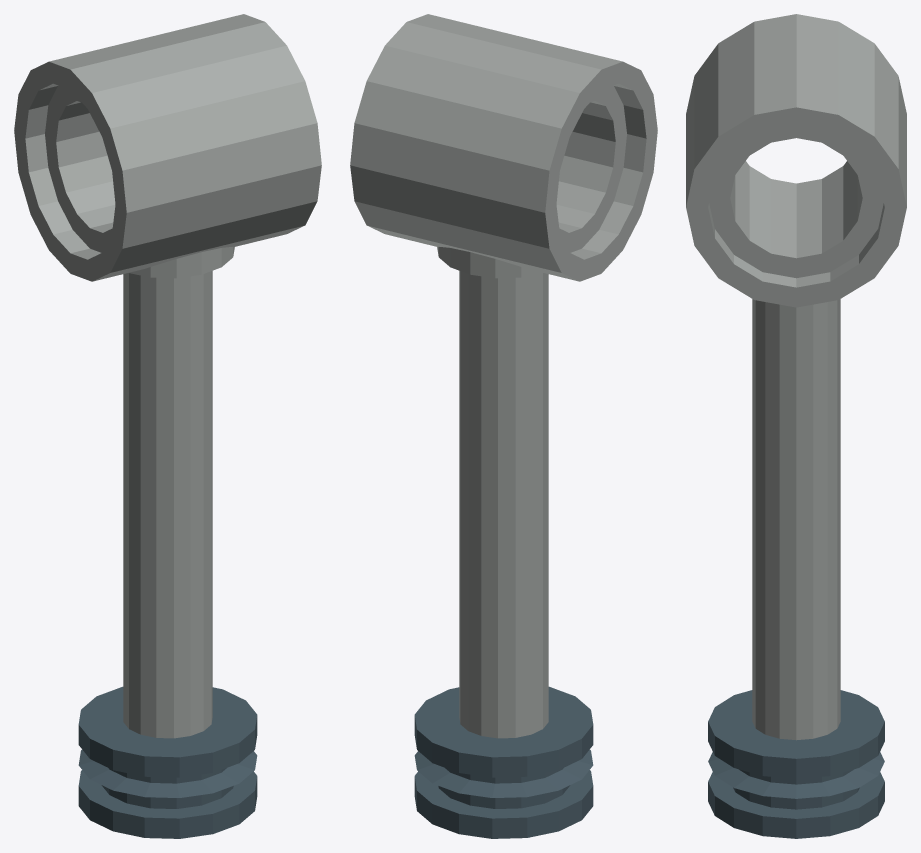
3 renders of one model, left to right at view 1: azimuth 30°, elevation 25°; view 2: azimuth 150°, elevation 25°; view 3: azimuth 270°, elevation 25°, orthographic.
Visible parts, largest first — view 1: world; view 2: world; view 3: world.
Boxes of the visible parts, <box> form: world: <box>14,14,321,838</box>; world: <box>350,14,657,838</box>; world: <box>686,14,906,838</box>.
Bounding box in the file's own units: 0.008 × 0.0304 × 0.008.
